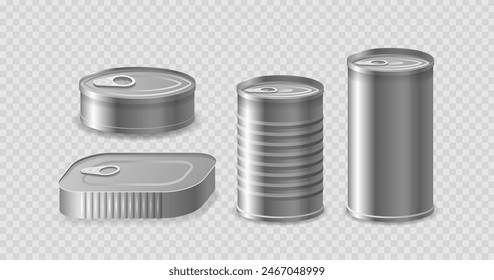can: (343, 44, 440, 224), (233, 71, 327, 220), (56, 151, 218, 221), (77, 66, 202, 132)
